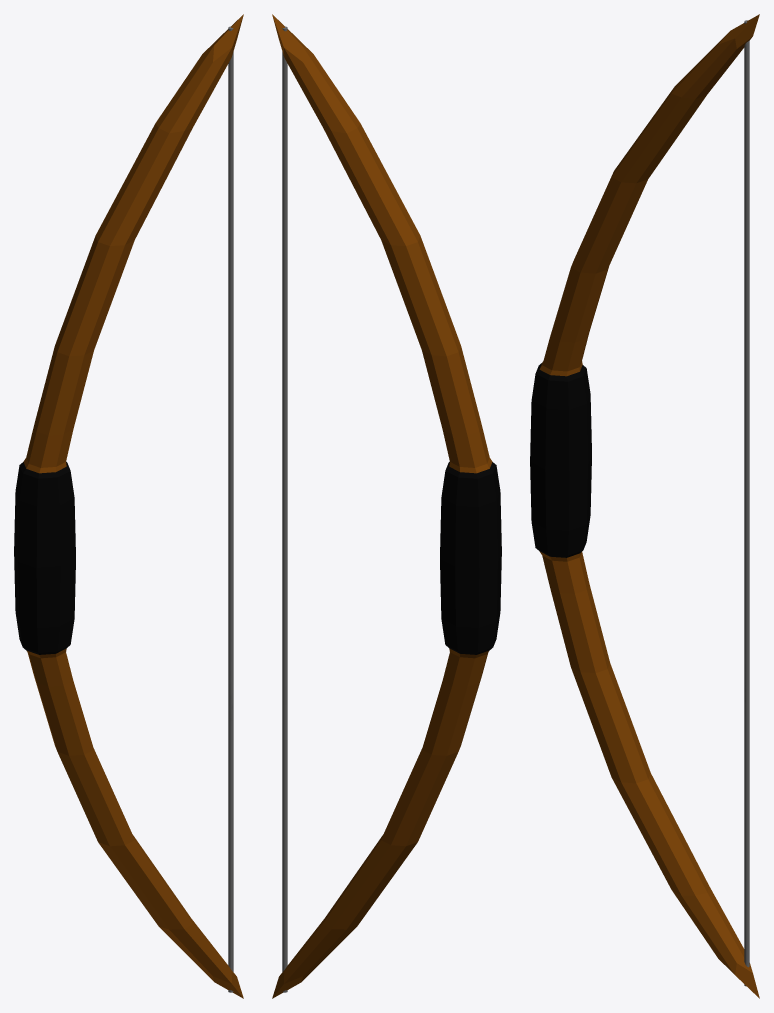
Rendered from arco.fbx.
3 renders of one model, left to right at view 1: azimuth 30°, elevation 25°; view 2: azimuth 150°, elevation 25°; view 3: azimuth 330°, elevation 25°, orthographic.
Visible parts, largest first — view 1: Arco; view 2: Arco; view 3: Arco.
Part boxes in pixels (x1,y1,x2,y2): Arco: (14, 14, 243, 998); Arco: (272, 14, 501, 998); Arco: (530, 14, 759, 998).
Bounding box in the file's own units: 188 × 785 × 45.11.
Materials: 1 (1 with a texture image).
